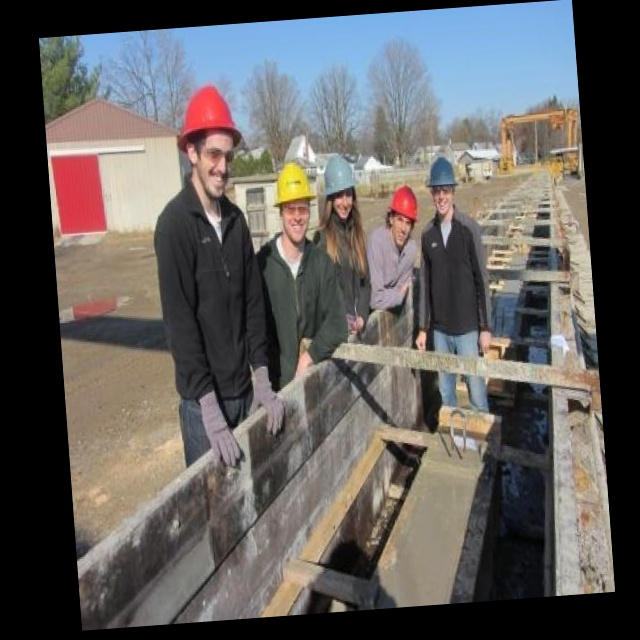Con_Casco: (272, 161, 318, 236)
